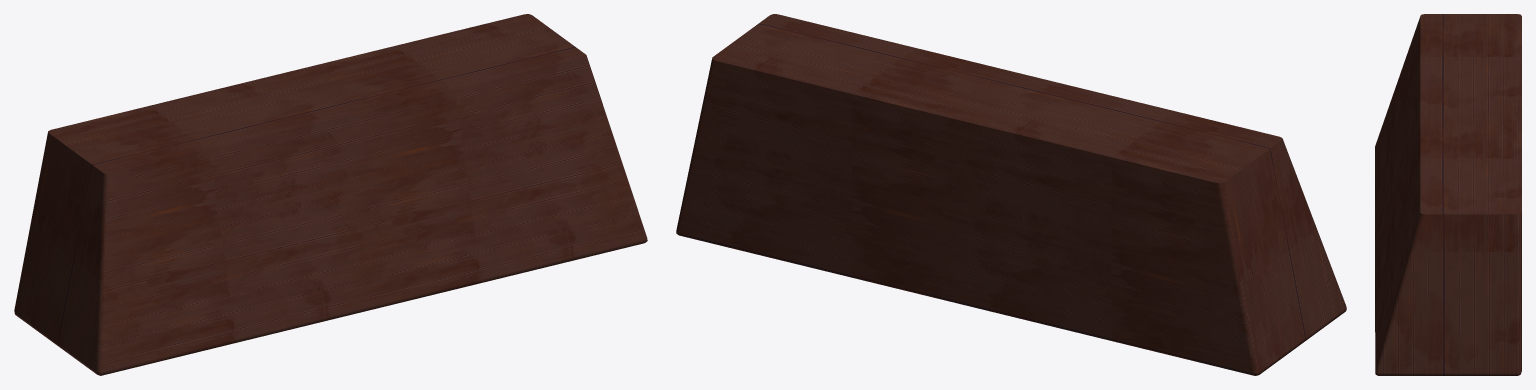
File: Mesh_Bar_top.fbx
3 views of the same model, side by side, from view 1: azimuth 30°, elevation 25°; view 2: azimuth 150°, elevation 25°; view 3: azimuth 270°, elevation 25° (orthographic). The views are drawn at different scales.
Parts seen in each view (by area): view 1: polySurface375; view 2: polySurface375; view 3: polySurface375.
Boxes of the visible parts, left/top/right/bottom form: polySurface375: left=14, top=14, right=647, bottom=375; polySurface375: left=676, top=14, right=1346, bottom=375; polySurface375: left=1375, top=14, right=1521, bottom=375.
Size of the model in its own units: 452 by 138 by 123.
Materials: 1 (1 with a texture image).
